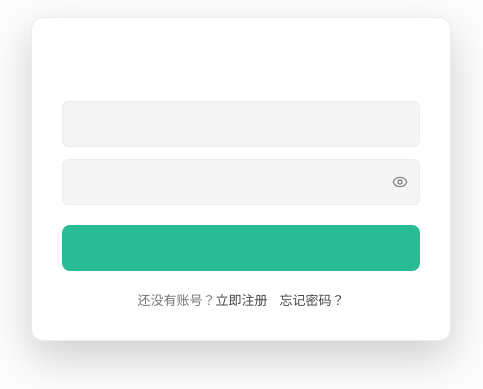
Test: AuthView route links › shows a submitting state and prevents duplicate authentication requests
Submit the form
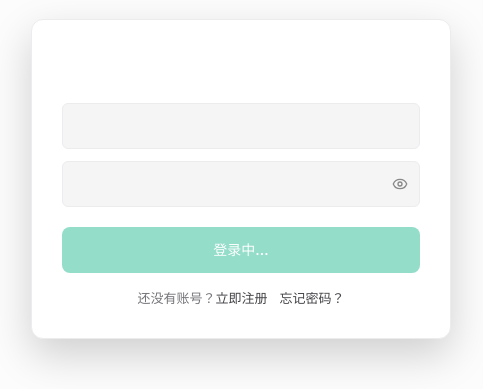
Now the submit button is disabled
Now the submit button shows "登录中"
Click the submit button at (241, 250), box top-left (62, 227), bottom-right (420, 273)
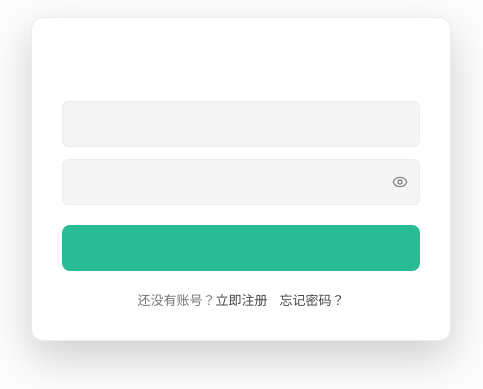
Now the submit button is enabled, box top-left (62, 225), bottom-right (420, 271)
